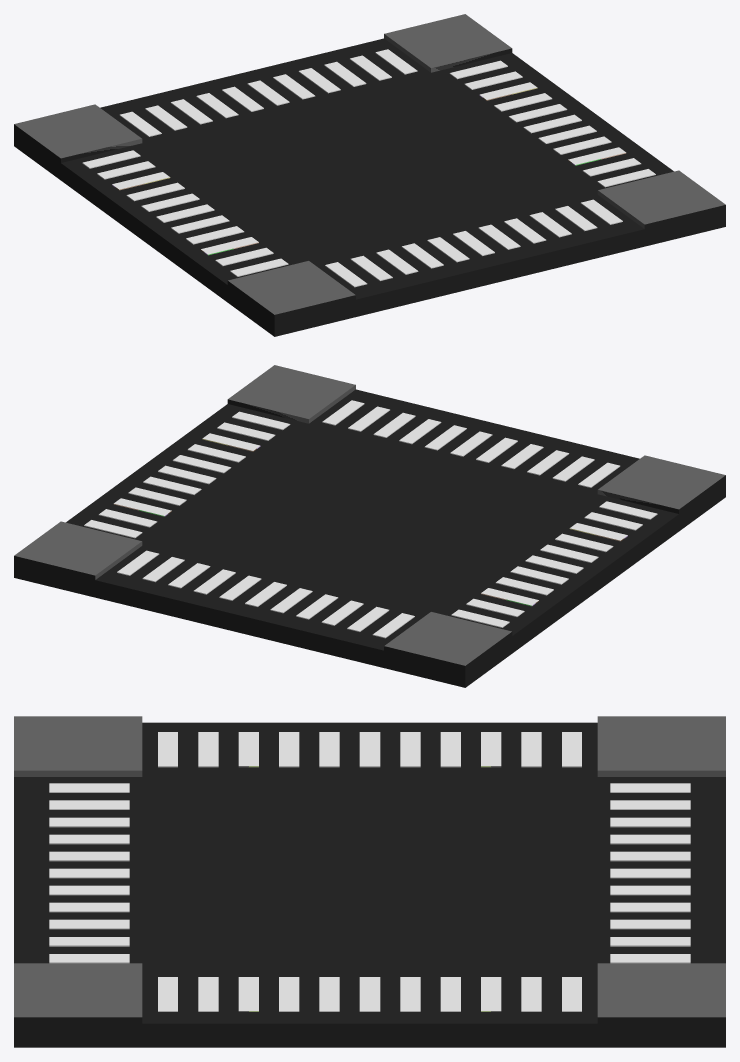
File: road_4-way_intersection.glb
3 renders of one model, top to bottom at view 1: azimuth 30°, elevation 25°; view 2: azimuth 150°, elevation 25°; view 3: azimuth 270°, elevation 25°, orthographic. The views are drawn at different scales.
Visible parts, largest first — view 1: Road_4-way_Intersection; view 2: Road_4-way_Intersection; view 3: Road_4-way_Intersection.
Boxes of the visible parts, bbox=[...] form: Road_4-way_Intersection: bbox=[14, 14, 725, 336]; Road_4-way_Intersection: bbox=[14, 365, 725, 687]; Road_4-way_Intersection: bbox=[14, 716, 725, 1047].
Bounding box in the file's own units: 2 × 0.0934 × 2.
1 material, 1 textured.
